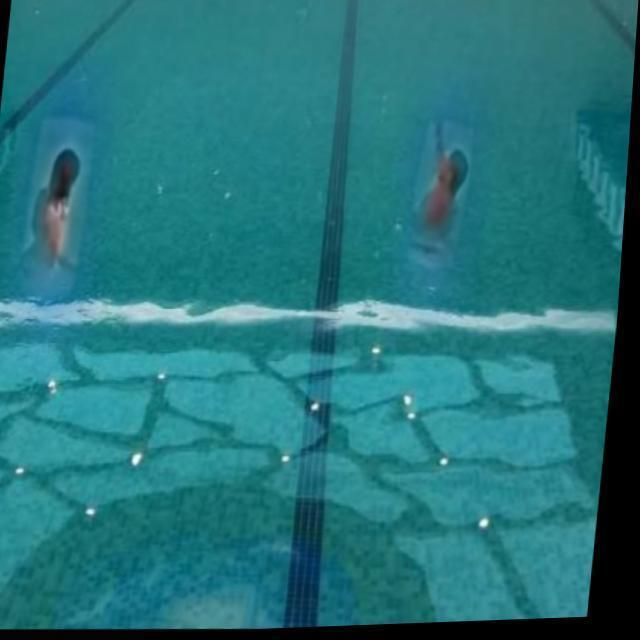swimming: (406, 119, 476, 285), (35, 130, 88, 289)
